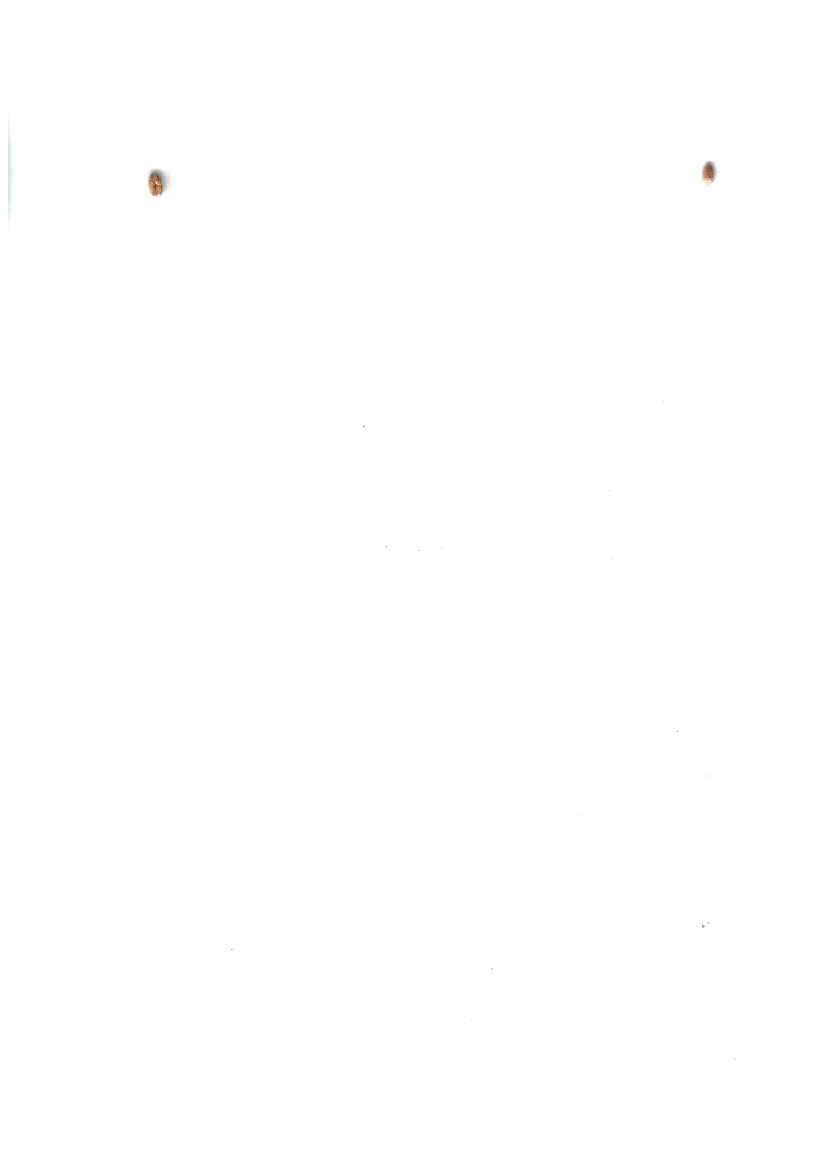grains: (692, 150, 728, 202), (137, 163, 176, 204)
